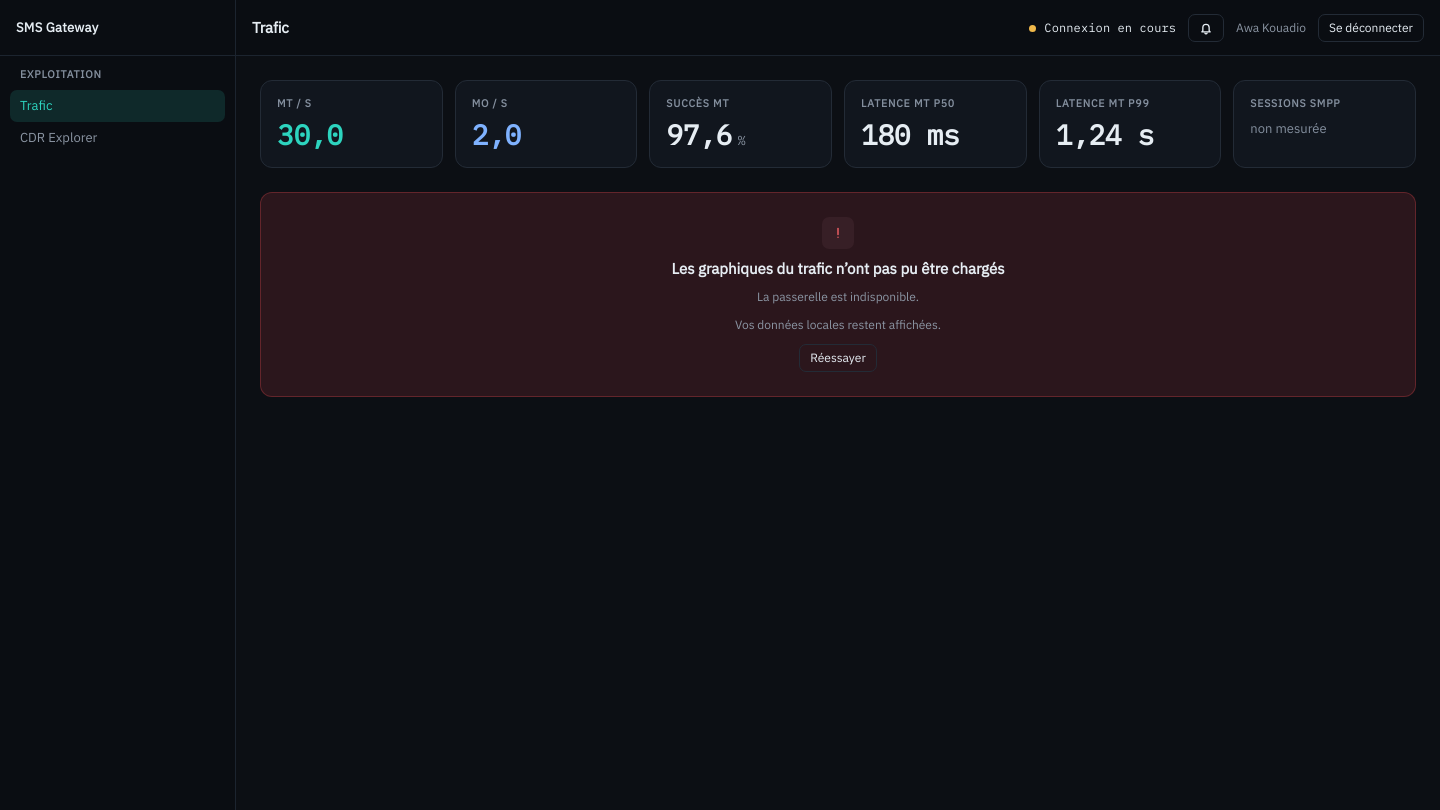
the traffic screen › keeps the tiles when only the series fail, and retries the charts alone
Expected: the heading "Les graphiques du trafic n’ont pas pu être chargés" is shown, [672,259,1004,278]
Expected: the text "30,0" is shown, [277,116,342,153]
Click the button "Réessayer": (838, 358) [799,344,877,372]
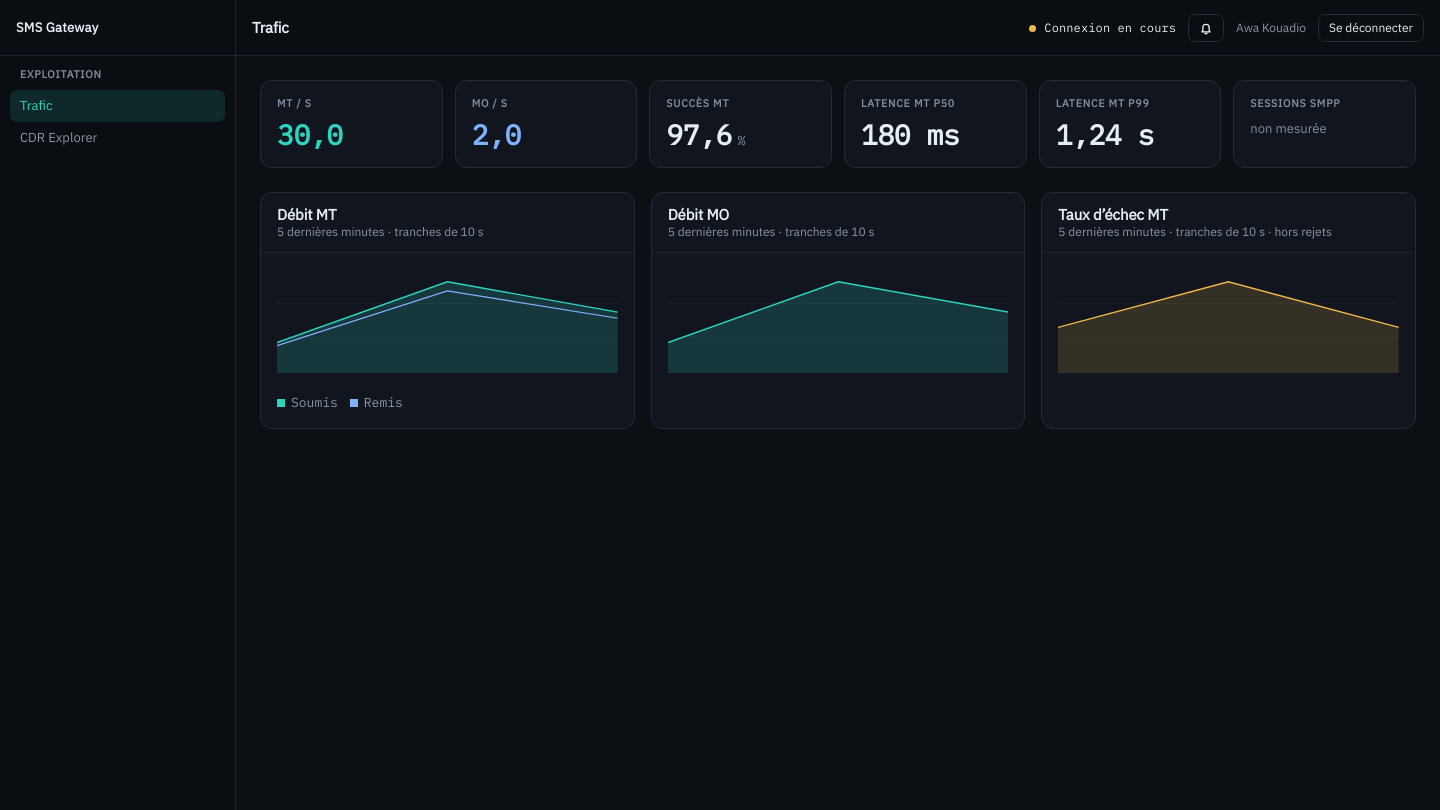
Expected: the picture named "Débit MT" is shown, [277,269,618,373]
